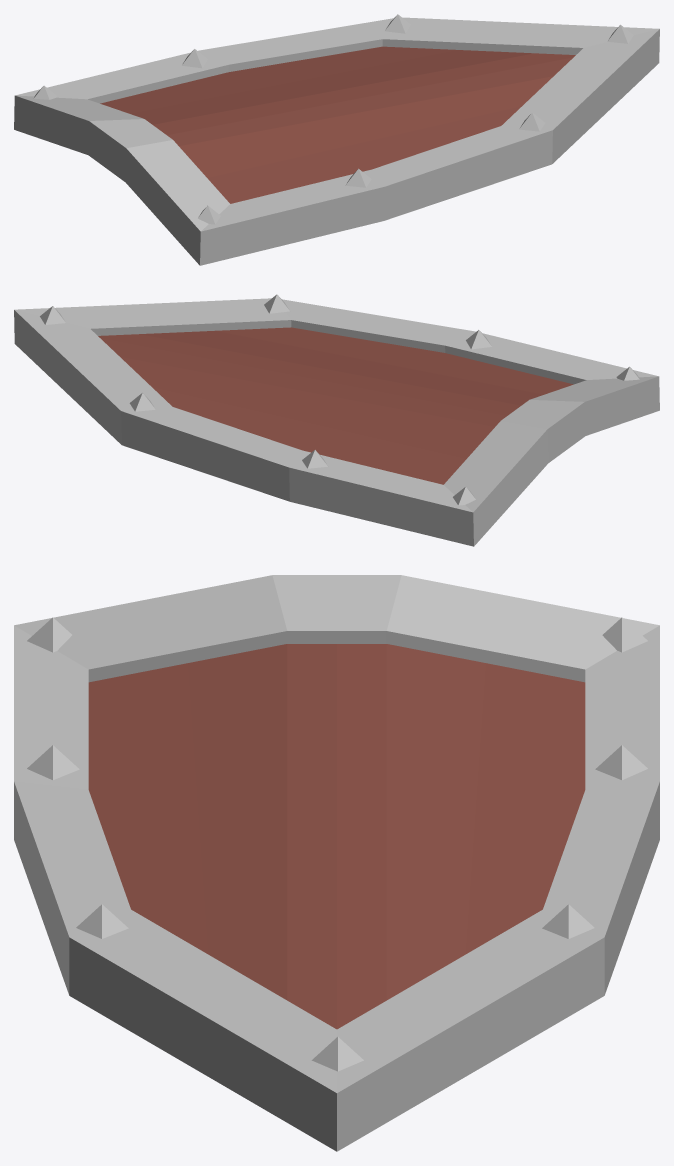
The model's file is Shield_4_b_r.fbx.
The picture shows the model from 3 angles, top to bottom: view 1: azimuth 30°, elevation 25°; view 2: azimuth 150°, elevation 25°; view 3: azimuth 270°, elevation 25°; orthographic projection. The views are drawn at different scales.
Visible parts, largest first — view 1: Plane.037, Plane.011; view 2: Plane.037, Plane.011; view 3: Plane.011, Plane.037, Cone.036, Cone.035, Cone.040, Cone.039, Cone.041, Cone.038, Cone.037.
Boxes of the visible parts, bbox=[...] form: Plane.037: bbox=[14, 17, 659, 265]; Plane.011: bbox=[100, 46, 575, 203]; Plane.037: bbox=[14, 298, 659, 546]; Plane.011: bbox=[98, 327, 573, 484]; Plane.011: bbox=[88, 644, 585, 1029]; Plane.037: bbox=[14, 575, 659, 1151]; Cone.036: bbox=[27, 745, 79, 779]; Cone.035: bbox=[595, 745, 647, 779]; Cone.040: bbox=[542, 904, 594, 938]; Cone.039: bbox=[76, 904, 128, 938]; Cone.041: bbox=[311, 1037, 363, 1071]; Cone.038: bbox=[602, 617, 647, 652]; Cone.037: bbox=[27, 617, 71, 652].
Bounding box in the file's own units: 78.1 × 16.53 × 45.5.
